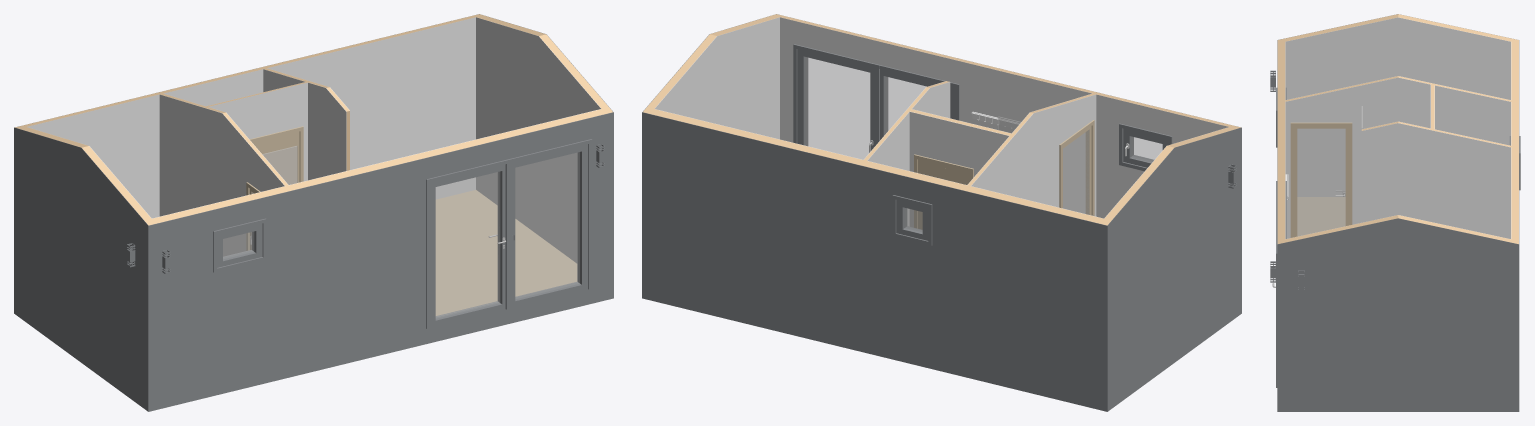
File: Pirtis_(3,5x7,0)_R00.fbx
3 views of the same model, side by side, from view 1: azimuth 30°, elevation 25°; view 2: azimuth 150°, elevation 25°; view 3: azimuth 270°, elevation 25° (orthographic). The views are drawn at different scales.
Parts seen in each view (by area): view 1: IfcWall/Part:2319977, IfcWall/Part:2397154, IfcWall/Part:2368366, IfcWall/Part:2397151, IfcWindow/Langai (Akrusta):1200x2100x120 (kairinis):2632484, IfcDoor/Durys išorinės:1200x2100x120 (kairinės):2439432, IfcSlab/Part:2319985, IfcWall/Part:2635882, IfcWall/Part:2642587, IfcWall/Part:2636866, IfcWall/Part:2319978, IfcWindow/Langai (Akrusta):700x500x120 (atverciamas):2623467 (+5 smaller); view 2: IfcWall/Part:2397155, IfcWall/Part:2368366, IfcWall/Part:2319976, IfcWall/Part:2397151, IfcWindow/Langai (Akrusta):1200x2100x120 (kairinis):2632484, IfcWall/Part:2635882, IfcWall/Part:2642588, IfcWall/Part:2397156, IfcDoor/Durys vidinės:800x2100 x 120 (dešininės) stiklines:2, IfcDoor/Durys išorinės:1200x2100x120 (kairinės):2439432, IfcWindow/Langai (Akrusta):500 x 500 x 120:2629695, IfcWindow/Langai (Akrusta):700x500x120 (atverciamas):2623467 (+6 smaller); view 3: IfcWall/Part:2397152, IfcWall/Part:2368365, IfcWall/Part:2636865, IfcWall/Part:2635881, IfcDoor/Durys vidinės:800x2100 x 120 (dešininės) stiklines:2, IfcWall/Part:2637351, IfcWall/Part:2319978, IfcSlab/Part:2319985, IfcWall/Part:2397156, IfcWall/Part:2397153, IfcWall/Part:2368367, IfcWall/Part:2635883 (+3 smaller).
Part boxes in pixels (bbox=[...]): IfcWall/Part:2319977: bbox=[148, 112, 613, 411]; IfcWall/Part:2397154: bbox=[27, 17, 475, 218]; IfcWall/Part:2368366: bbox=[14, 127, 148, 411]; IfcWall/Part:2397151: bbox=[476, 17, 601, 263]; IfcWindow/Langai (Akrusta):1200x2100x120 (kairinis):2632484: bbox=[505, 139, 592, 309]; IfcDoor/Durys išorinės:1200x2100x120 (kairinės):2439432: bbox=[426, 159, 512, 328]; IfcSlab/Part:2319985: bbox=[435, 190, 577, 315]; IfcWall/Part:2635882: bbox=[159, 94, 284, 256]; IfcWall/Part:2642587: bbox=[209, 82, 307, 181]; IfcWall/Part:2636866: bbox=[308, 82, 346, 180]; IfcWall/Part:2319978: bbox=[145, 109, 605, 225]; IfcWindow/Langai (Akrusta):700x500x120 (atverciamas):2623467: bbox=[213, 218, 266, 272]; IfcWall/Part:2397155: bbox=[642, 112, 1107, 411]; IfcWall/Part:2368366: bbox=[1107, 127, 1241, 411]; IfcWall/Part:2319976: bbox=[780, 17, 1228, 218]; IfcWall/Part:2397151: bbox=[654, 17, 779, 139]; IfcWindow/Langai (Akrusta):1200x2100x120 (kairinis):2632484: bbox=[793, 44, 879, 159]; IfcWall/Part:2635882: bbox=[971, 94, 1096, 216]; IfcWall/Part:2642588: bbox=[909, 111, 1008, 227]; IfcWall/Part:2397156: bbox=[643, 107, 1110, 225]; IfcDoor/Durys vidinės:800x2100 x 120 (dešininės) stiklines:2: bbox=[1059, 120, 1094, 215]; IfcDoor/Durys išorinės:1200x2100x120 (kairinės):2439432: bbox=[873, 63, 959, 147]; IfcWindow/Langai (Akrusta):500 x 500 x 120:2629695: bbox=[892, 195, 932, 245]; IfcWindow/Langai (Akrusta):700x500x120 (atverciamas):2623467: bbox=[1119, 123, 1172, 171]; IfcWall/Part:2397152: bbox=[1277, 218, 1518, 411]; IfcWall/Part:2368365: bbox=[1285, 17, 1510, 196]; IfcWall/Part:2636865: bbox=[1361, 123, 1510, 238]; IfcWall/Part:2635881: bbox=[1285, 77, 1430, 238]; IfcDoor/Durys vidinės:800x2100 x 120 (dešininės) stiklines:2: bbox=[1290, 122, 1352, 237]; IfcWall/Part:2637351: bbox=[1435, 85, 1510, 145]; IfcWall/Part:2319978: bbox=[1277, 38, 1285, 240]; IfcSlab/Part:2319985: bbox=[1297, 197, 1345, 236]; IfcWall/Part:2397156: bbox=[1511, 38, 1518, 243]; IfcWall/Part:2397153: bbox=[1277, 215, 1511, 243]; IfcWall/Part:2368367: bbox=[1285, 14, 1511, 41]; IfcWall/Part:2635883: bbox=[1285, 76, 1511, 101].
Size of the model in its own units: 720 by 309 by 362.
